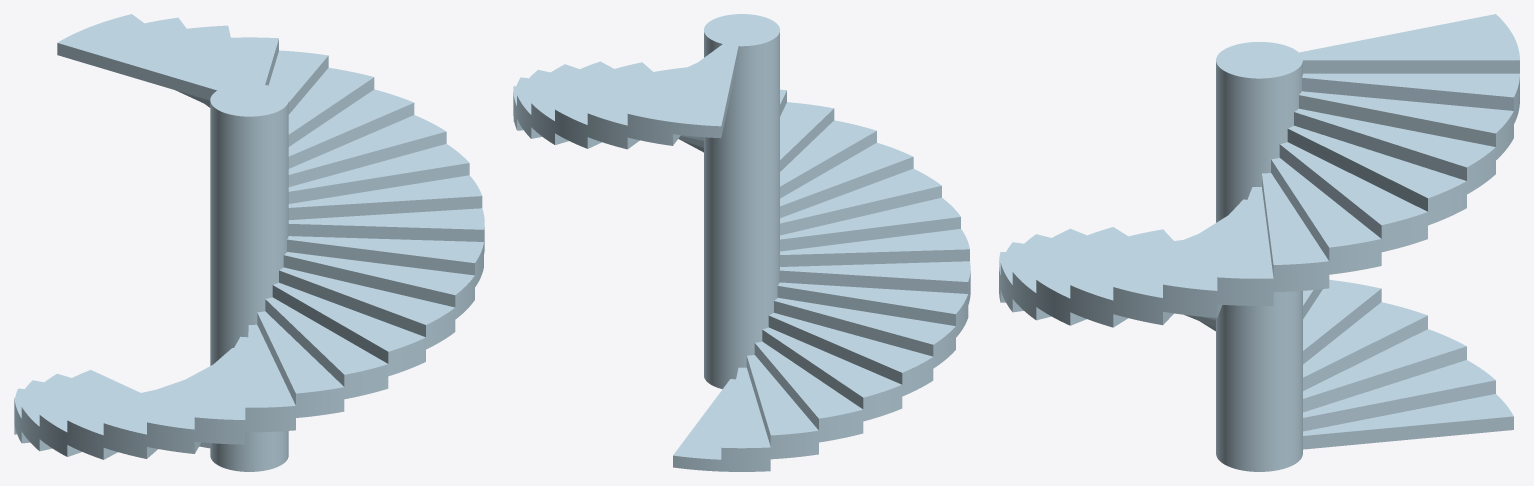
File: StairCase.gltf
3 renders of one model, left to right at view 1: azimuth 30°, elevation 25°; view 2: azimuth 150°, elevation 25°; view 3: azimuth 270°, elevation 25°, orthographic. The views are drawn at different scales.
Parts seen in each view (by area): view 1: StairCase; view 2: StairCase; view 3: StairCase.
Part boxes in pixels (x1,y1,x2,y2): StairCase: [14, 14, 484, 471]; StairCase: [513, 14, 970, 471]; StairCase: [999, 14, 1519, 471].
Size of the model in its own units: 6 by 5 by 6.
